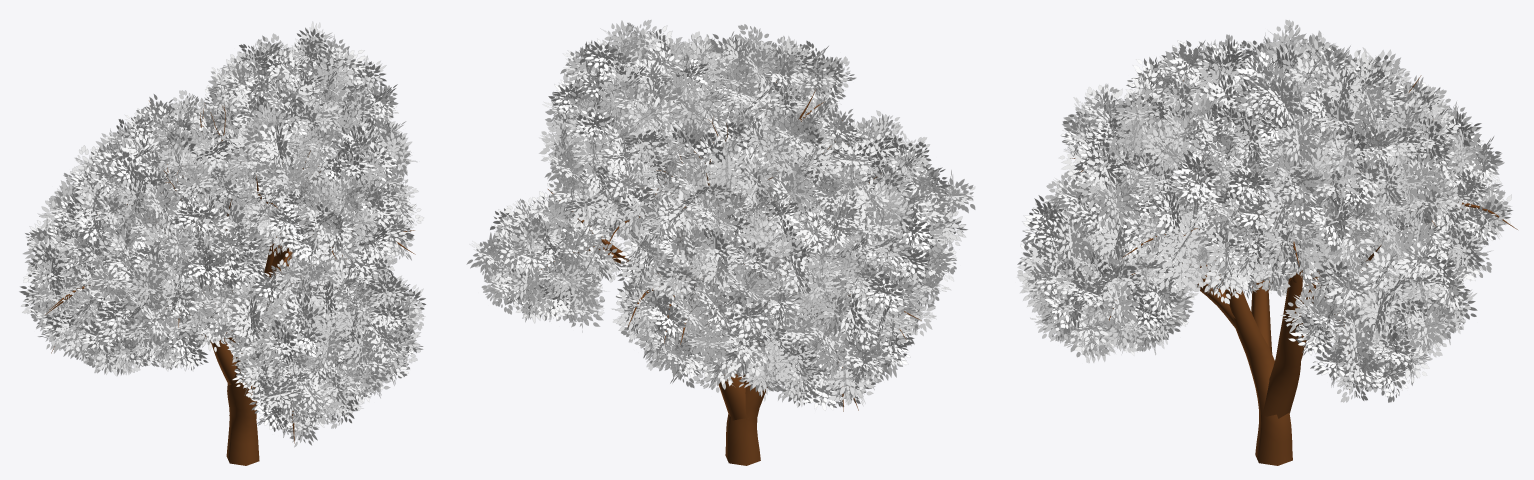
Rendered from fluffy-tree.glb.
3 views of the same model, side by side, from view 1: azimuth 30°, elevation 25°; view 2: azimuth 150°, elevation 25°; view 3: azimuth 270°, elevation 25° (orthographic). The views are drawn at different scales.
Visible parts, largest first — view 1: NOVA COPA Esfera.001, NOVA COPA Esfera.002, NOVA COPA Esfera.003, Tronco da Árvore.001; view 2: NOVA COPA Esfera.001, NOVA COPA Esfera.002, NOVA COPA Esfera.004, Tronco da Árvore.001; view 3: NOVA COPA Esfera.002, NOVA COPA Esfera.004, NOVA COPA Esfera.003, NOVA COPA Esfera.001, Tronco da Árvore.001.
Boxes of the visible parts, box(x1,y1,x2,y2) form: NOVA COPA Esfera.001: box(19, 90, 276, 375); NOVA COPA Esfera.002: box(204, 21, 423, 271); NOVA COPA Esfera.003: box(221, 246, 425, 446); Tronco da Árvore.001: box(45, 100, 415, 465); NOVA COPA Esfera.001: box(611, 106, 975, 410); NOVA COPA Esfera.002: box(539, 20, 855, 240); NOVA COPA Esfera.004: box(467, 190, 629, 332); Tronco da Árvore.001: box(541, 82, 921, 465); NOVA COPA Esfera.002: box(1058, 38, 1456, 304); NOVA COPA Esfera.004: box(1280, 228, 1477, 402); NOVA COPA Esfera.003: box(1017, 169, 1210, 362); NOVA COPA Esfera.001: box(1124, 20, 1512, 300); Tronco da Árvore.001: box(1070, 62, 1517, 465).
Size of the model in its own units: 6.32 by 6.07 by 6.27.
2 materials, 1 textured.
